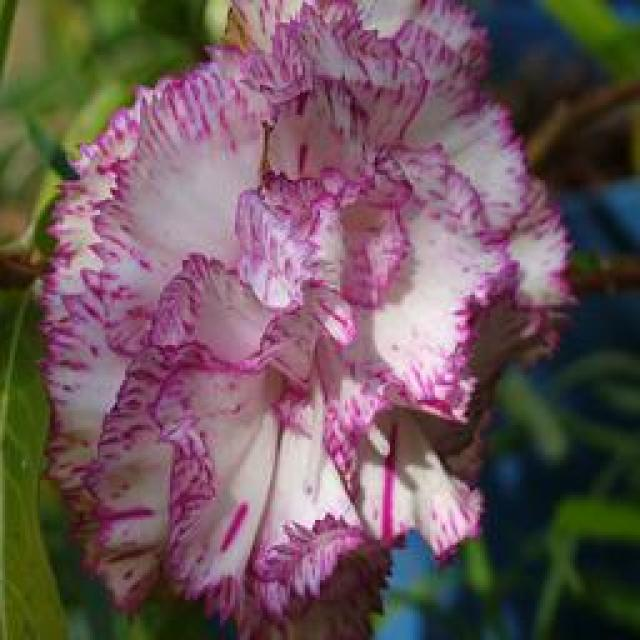carnation: (38, 0, 572, 640)
